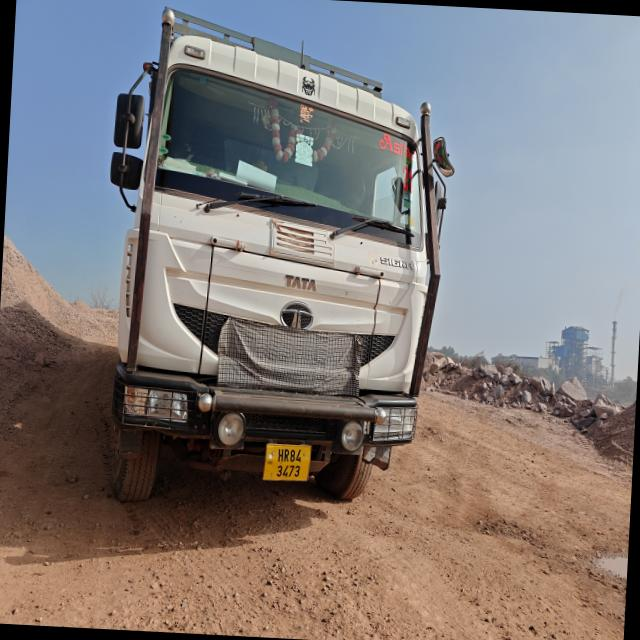license_plate: (264, 444, 311, 481)
